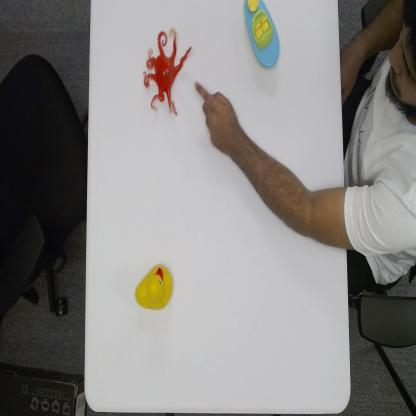Arm: (246, 127, 388, 261)
Boat: (242, 0, 282, 71)
Duck: (134, 260, 174, 312)
Hand: (193, 81, 243, 159)
Octopus: (142, 26, 193, 117)
